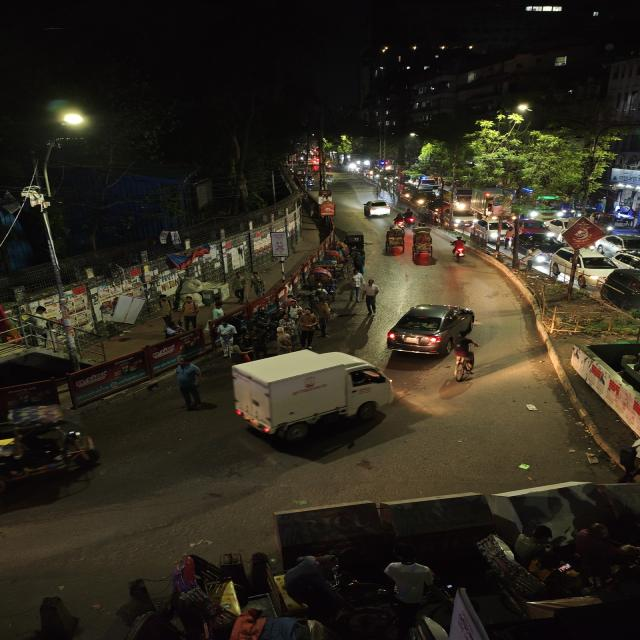bicycle: (448, 335, 483, 382)
car: (382, 302, 480, 358), (548, 244, 618, 283), (597, 267, 640, 319), (503, 218, 563, 242), (598, 231, 640, 261), (468, 219, 512, 243), (445, 204, 480, 230), (361, 198, 393, 220)
motorcycle: (449, 235, 471, 264), (394, 208, 418, 229)
pedestrian: (166, 358, 209, 410), (448, 334, 482, 382), (295, 307, 321, 347), (313, 299, 337, 336), (231, 332, 257, 365), (213, 320, 238, 354), (179, 294, 200, 330), (272, 320, 297, 350), (362, 278, 381, 316), (157, 313, 181, 340), (230, 272, 250, 304), (345, 271, 364, 303)
rickshaw: (407, 226, 438, 268), (382, 226, 408, 256), (341, 229, 368, 253)
truck: (224, 346, 402, 442), (474, 188, 513, 218)
